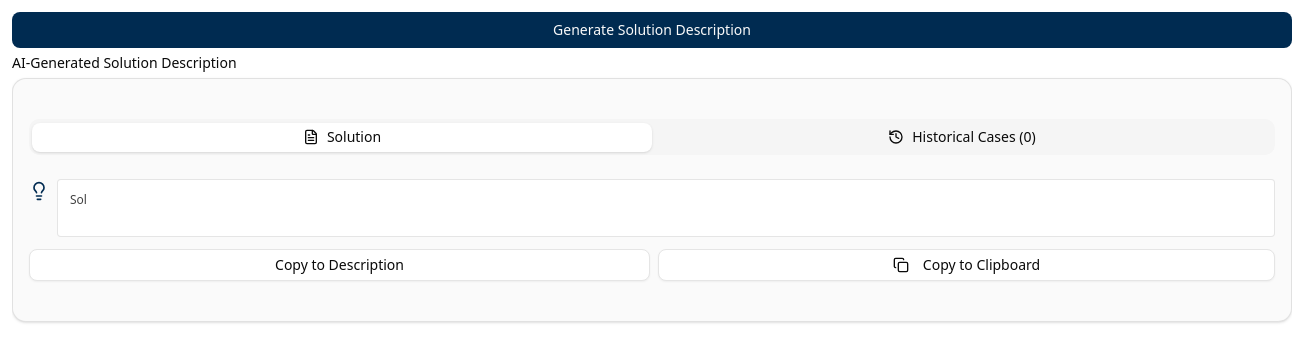
AIGeneratorPanel › shows no historical cases message
Click the tab "Historical Cases (0)" at (962, 137), box 652,122 -> 1272,152
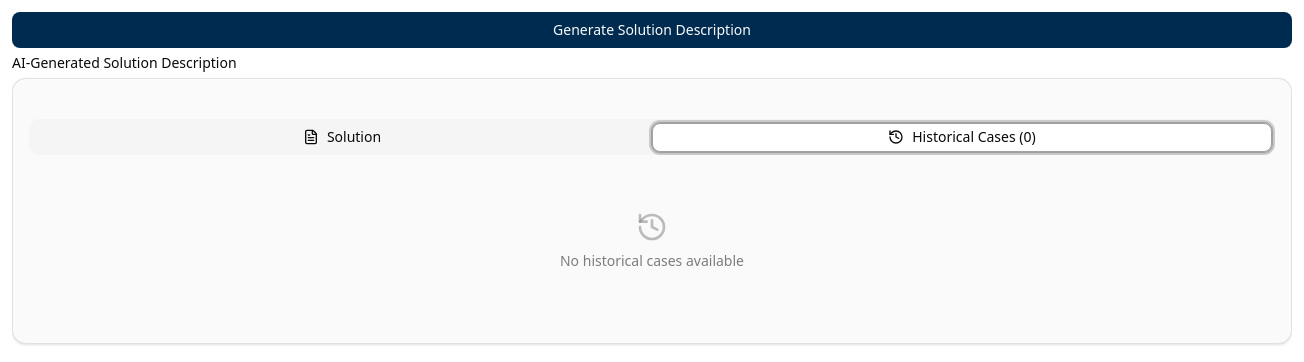
Expected: the text "No historical cases available" is shown, 560,251 -> 744,270
